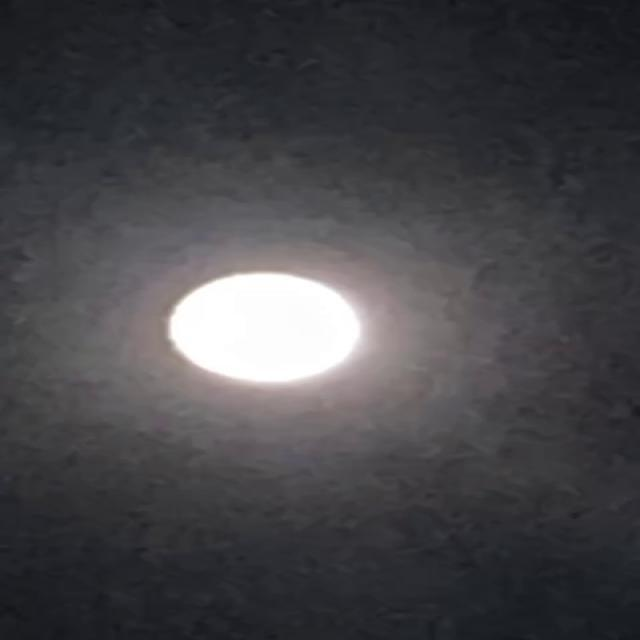moon: (94, 267, 317, 411)
